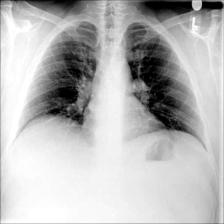normal: (11, 13, 212, 157)
